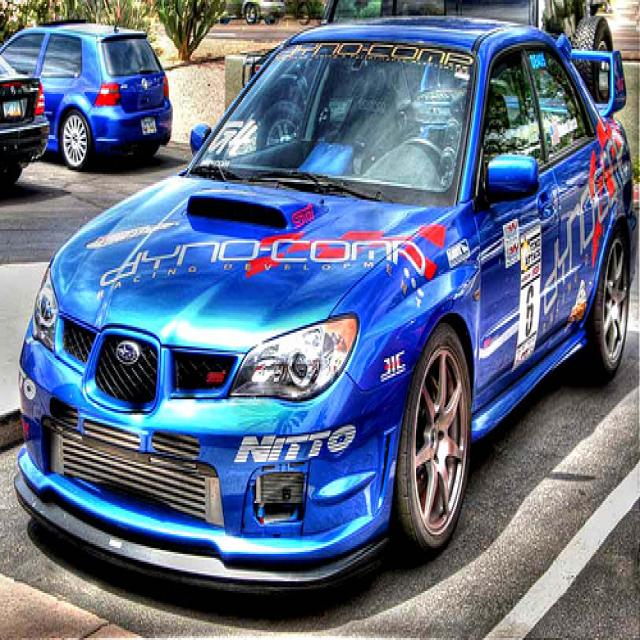Car: (18, 20, 638, 599), (5, 23, 172, 161), (0, 53, 45, 187)
